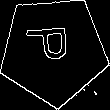P_E: (28, 30, 79, 71)
